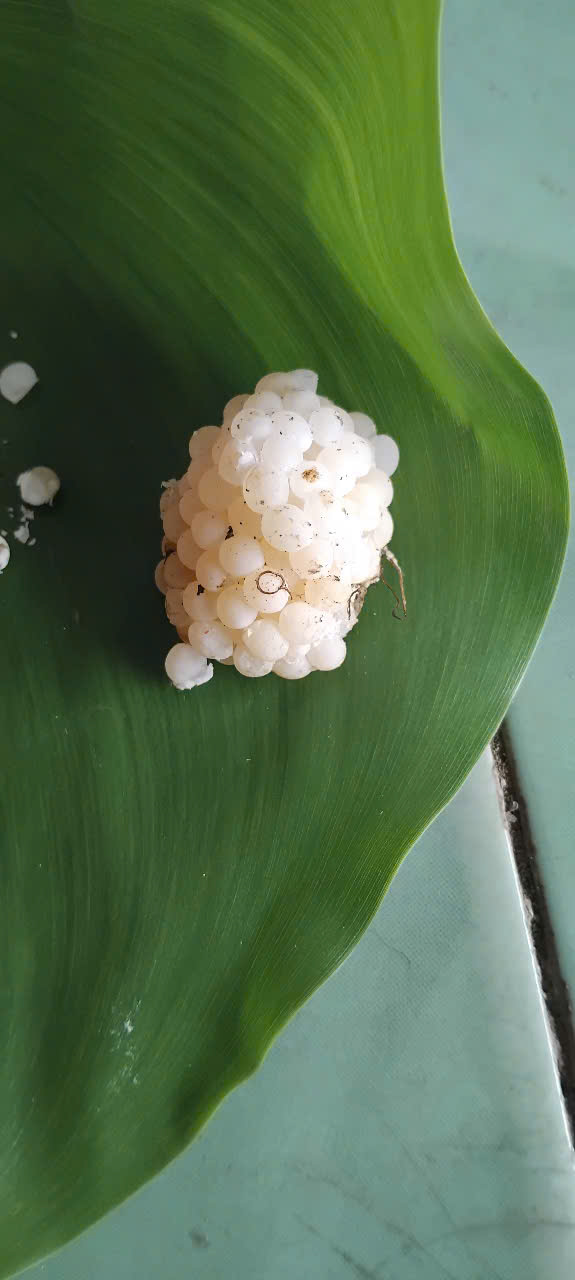trung_oc_buou_den: (116, 347, 421, 762)
